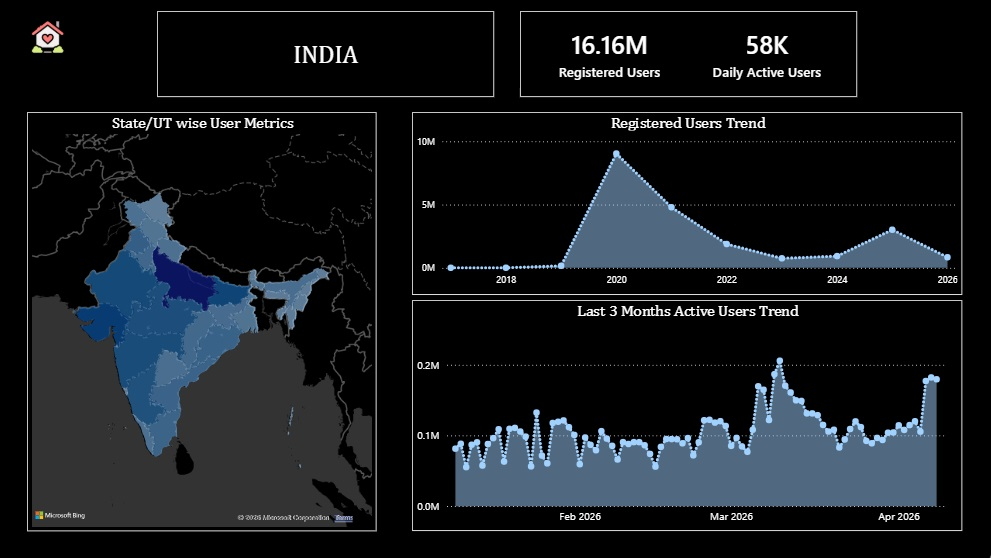

This screenshot's page, from the dashboard's own definition file:
{"tool":"powerbi","page":{"name":"User Metrics","canvas":[1280,720],"ordinal":1},"visuals":[{"type":"filledMap","title":"State/UT wise User Metrics","fields":{"Category":["Registered_Users_States.State/UT"]},"box":[35.8,144.5,451.4,540.9],"z":0},{"type":"cardVisual","fields":{"Data":["Sum(Registered_Users_States.Registered Users)","Sum(Registered_Users_States.Daily Active Users)"]},"box":[672.5,14.4,435,110.9],"z":1000},{"type":"card","fields":{"Values":["Registered_Users_States.Selected State/UT"]},"box":[204.5,14.4,435,110.9],"z":2000},{"type":"areaChart","title":"Registered Users Trend","fields":{"Category":["Registered_Users_Trend.Year"],"Y":["Sum(Registered_Users_Trend.Registered Users)"]},"box":[532.8,144,709.9,236.2],"z":3000},{"type":"stackedAreaChart","title":"Last 3 Months Active Users Trend","fields":{"Category":["Active_Users_Trend.created_dt"],"Y":["Sum(Active_Users_Trend.Active Users Trend)"]},"box":[532.8,387.4,709.9,298.1],"z":4000},{"type":"shape","box":[905.8,80,163.9,33.5],"z":5000},{"type":"shape","box":[700.6,79.8,164.1,34],"z":6000},{"type":"image","box":[35.4,25.5,55.3,43.9],"z":7000}]}

Visuals, with their boxes in screenshot pixels (x1, y1, x2, y2), scaled from the page's 1280x720 canvas onto the 991x558 screenshot:
"State/UT wise User Metrics" filledMap: 28:112:377:531
cardVisual - Sum(Registered_Users_States.Registered Users) x Sum(Registered_Users_States.Daily Active Users): 521:11:857:97
card - Registered_Users_States.Selected State/UT: 158:11:495:97
"Registered Users Trend" areaChart: 413:112:962:295
"Last 3 Months Active Users Trend" stackedAreaChart: 413:300:962:531
shape: 701:62:828:88
shape: 542:62:669:88
image: 27:20:70:54
